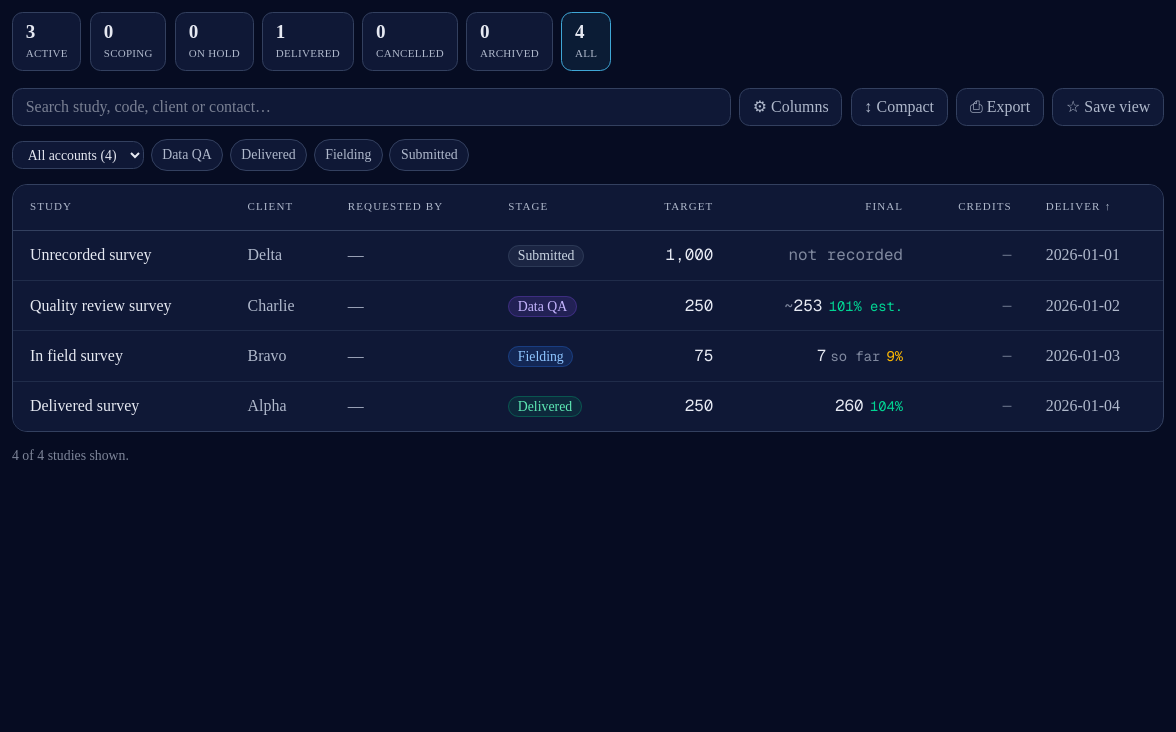
it: SalesPipeline columns › does not offer Collected in the column picker
This screenshot has width=1176, height=732.
Click the button "⚙ Columns" at (791, 107), box [739,88,842,126]
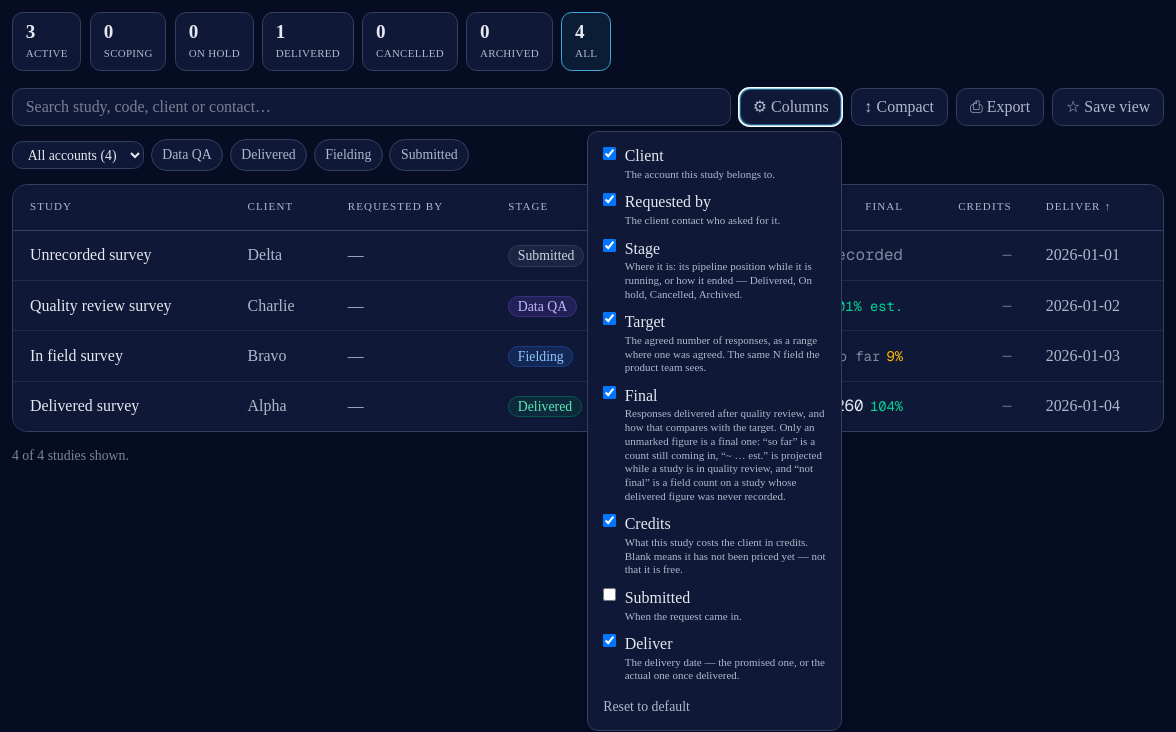
Check: the checkbox labelled "Target" is checked, box [603,312,616,325]
Check: the checkbox labelled "Final" is checked, box [603,386,616,399]
